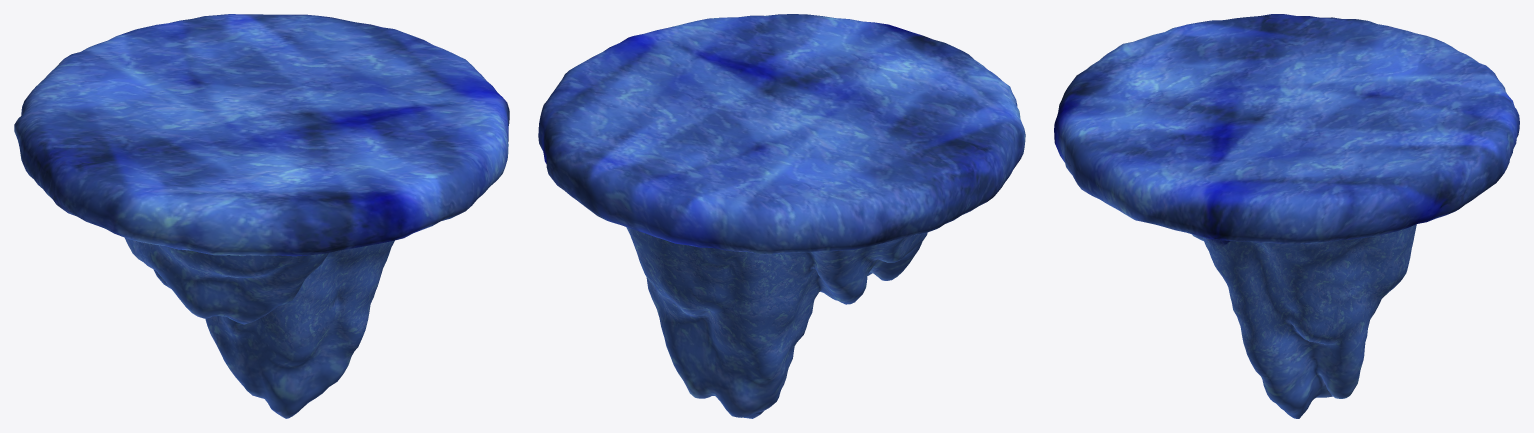
File: tile.glb
3 views of the same model, side by side, from view 1: azimuth 30°, elevation 25°; view 2: azimuth 150°, elevation 25°; view 3: azimuth 270°, elevation 25° (orthographic). The views are drawn at different scales.
Parts seen in each view (by area): view 1: floatingice; view 2: floatingice; view 3: floatingice.
Part boxes in pixels (box(x1,y1,x2,y2)): floatingice: box(14, 14, 509, 418); floatingice: box(538, 14, 1025, 418); floatingice: box(1054, 14, 1519, 418).
Bounding box in the file's own units: 1266 × 896 × 1265.
Materials: 1 (1 with a texture image).
